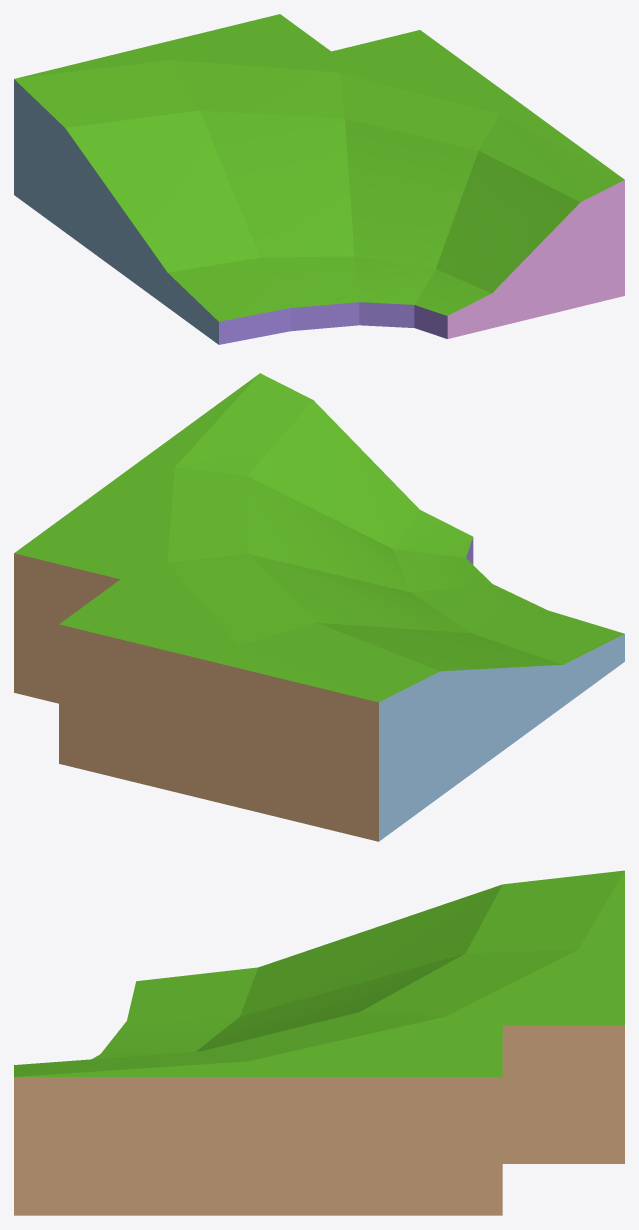
Rendered from Grass_Hill_Grade_Transition_Curve_Inner_4x5.glb.
The picture shows the model from 3 angles, top to bottom: view 1: azimuth 30°, elevation 25°; view 2: azimuth 150°, elevation 25°; view 3: azimuth 270°, elevation 25°; orthographic projection. The views are drawn at different scales.
Parts seen in each view (by area): view 1: Grass_Hill_Grade_Transition_Curve_Inner_4x5; view 2: Grass_Hill_Grade_Transition_Curve_Inner_4x5; view 3: Grass_Hill_Grade_Transition_Curve_Inner_4x5.
Part boxes in pixels (x1,y1,x2,y2): Grass_Hill_Grade_Transition_Curve_Inner_4x5: (14,14,624,344); Grass_Hill_Grade_Transition_Curve_Inner_4x5: (14,373,624,841); Grass_Hill_Grade_Transition_Curve_Inner_4x5: (14,870,624,1215).
Size of the model in its own units: 400 by 125 by 500.
